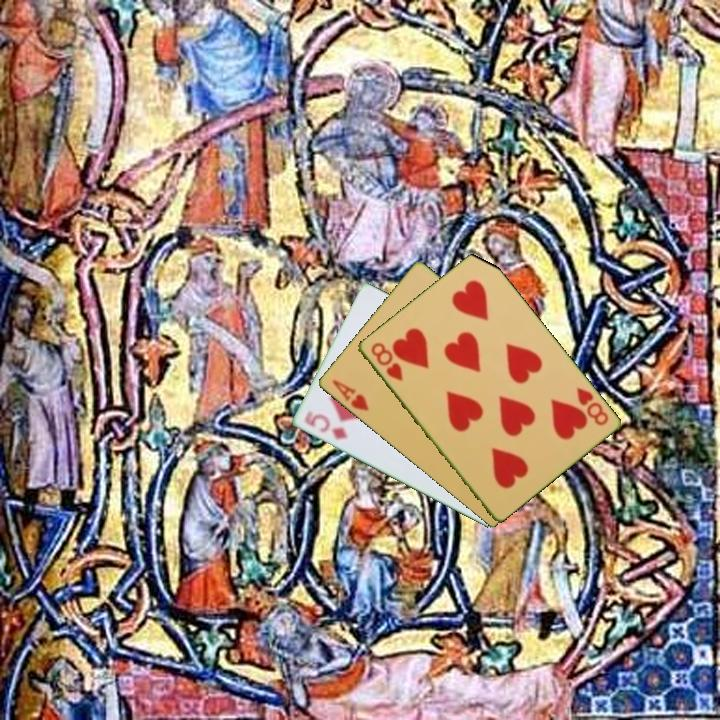5d: (300, 407, 350, 443)
8h: (367, 339, 406, 384), (572, 384, 611, 428)
Ah: (328, 376, 372, 414)
